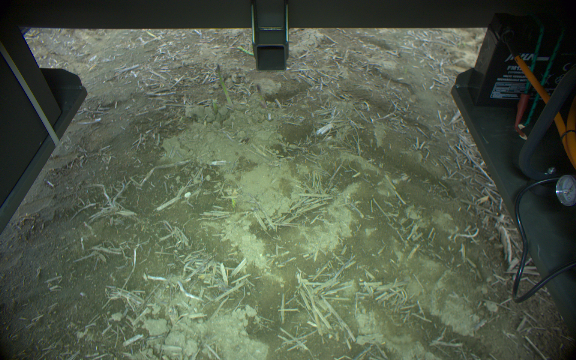aspa: (215, 63, 232, 108), (235, 44, 254, 57)
